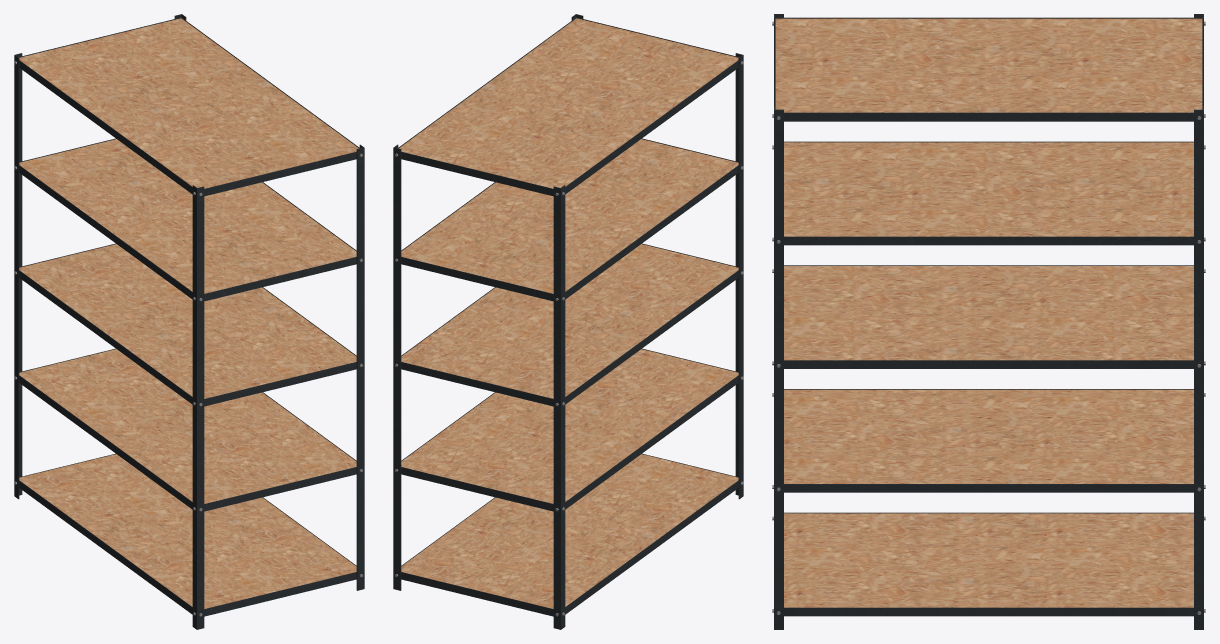
Rendered from free_-_chipboard_shelf.glb.
3 views of the same model, side by side, from view 1: azimuth 30°, elevation 25°; view 2: azimuth 150°, elevation 25°; view 3: azimuth 270°, elevation 25° (orthographic). The views are drawn at different scales.
Visible parts, largest first — view 1: Plane.002, Cube.005, Cube.004; view 2: Plane.002, Cube.005, Cube.004; view 3: Plane.002, Cube.005, Cube.004.
Part boxes in pixels (x1,y1,x2,y2): Plane.002: [19, 18, 358, 608]; Cube.005: [19, 17, 359, 616]; Cube.004: [14, 14, 364, 629]; Plane.002: [399, 18, 738, 608]; Cube.005: [398, 17, 738, 616]; Cube.004: [393, 14, 743, 629]; Plane.002: [775, 18, 1202, 607]; Cube.005: [775, 17, 1202, 616]; Cube.004: [774, 14, 1203, 629].
Size of the model in its own units: 0.8044 by 2 by 1.51.
Materials: 3 (2 with a texture image).
